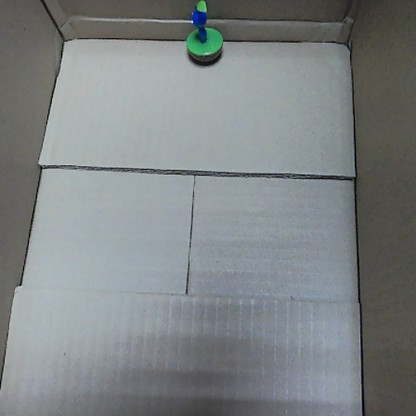leafairy: (182, 0, 225, 64)
